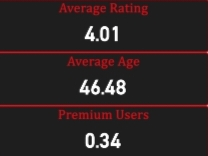

What the dashboard file says about the page in this screenshot:
{"tool":"powerbi","page":{"name":"GenreTooltip","canvas":[320,240],"ordinal":2},"visuals":[{"type":"card","title":"Average Rating","fields":{"Values":["Avg(netflix_users.User_Rating)"]},"box":[0,0,320,80],"z":0},{"type":"card","title":"Average Age","fields":{"Values":["Avg(netflix_users.Age)"]},"box":[0,80,320,80],"z":1000},{"type":"card","title":"Premium Users","fields":{"Values":["netflix_users.Percent_Premium"]},"box":[0,160,320,80],"z":2000}]}

Visuals, with their boxes in screenshot pixels (x1, y1, x2, y2), scaled from the page's 320x240 canvas onto the 208x156 screenshot:
"Average Rating" card: <region>0, 0, 207, 52</region>
"Average Age" card: <region>0, 52, 207, 104</region>
"Premium Users" card: <region>0, 104, 207, 155</region>
